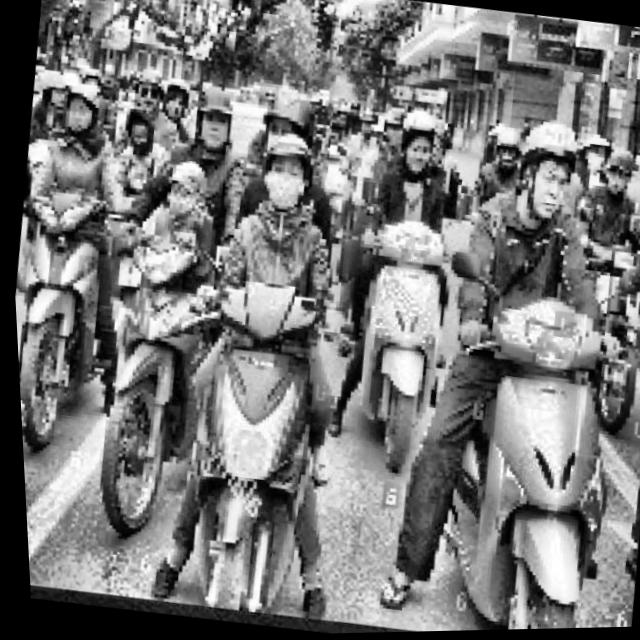motorcycle: (394, 242, 640, 633), (137, 238, 358, 620), (69, 186, 231, 540), (329, 184, 482, 466), (7, 161, 147, 457)
